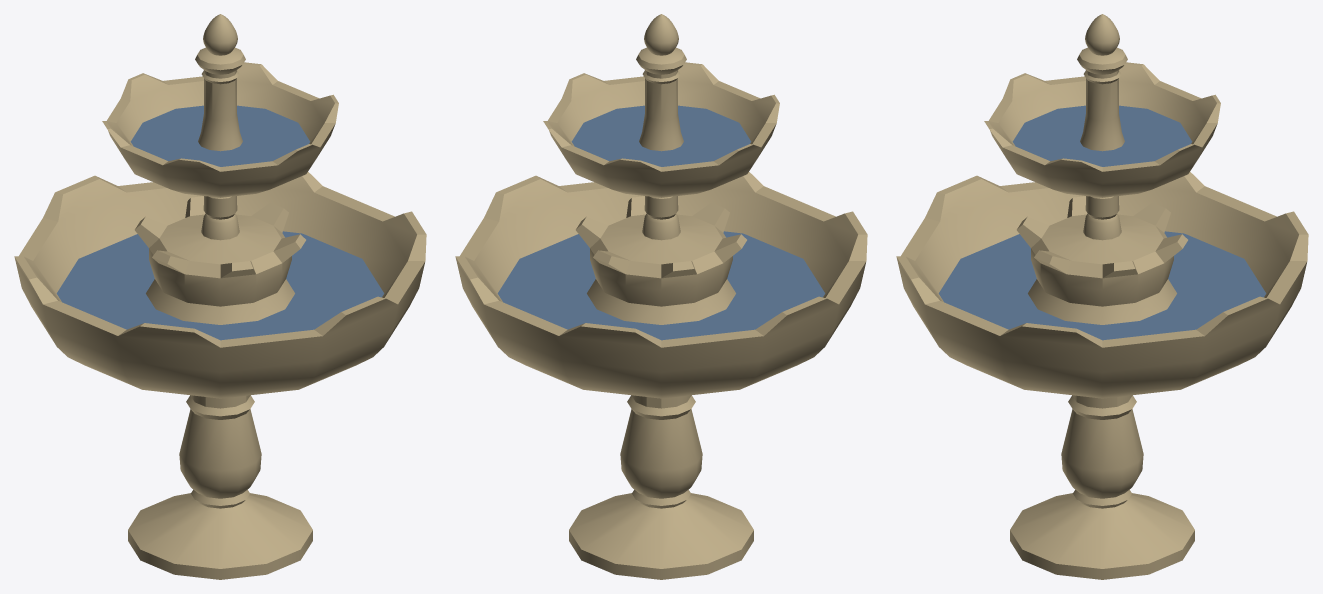
Rendered from Fountain.fbx.
The picture shows the model from 3 angles, left to right: view 1: azimuth 30°, elevation 25°; view 2: azimuth 150°, elevation 25°; view 3: azimuth 270°, elevation 25°; orthographic projection.
Parts seen in each view (by area): view 1: Cylinder, Cylinder.001; view 2: Cylinder, Cylinder.001; view 3: Cylinder, Cylinder.001.
Boxes of the visible parts, x1,y1,x2,y2 form: Cylinder: (14,14,426,579); Cylinder.001: (56,105,384,340); Cylinder: (455,14,867,579); Cylinder.001: (497,105,825,340); Cylinder: (896,14,1308,579); Cylinder.001: (938,105,1266,340).
Bounding box in the file's own units: 445 × 628 × 445.
